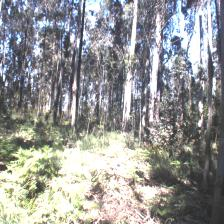trunktrack_idkeyframe: (203, 92, 212, 184)
